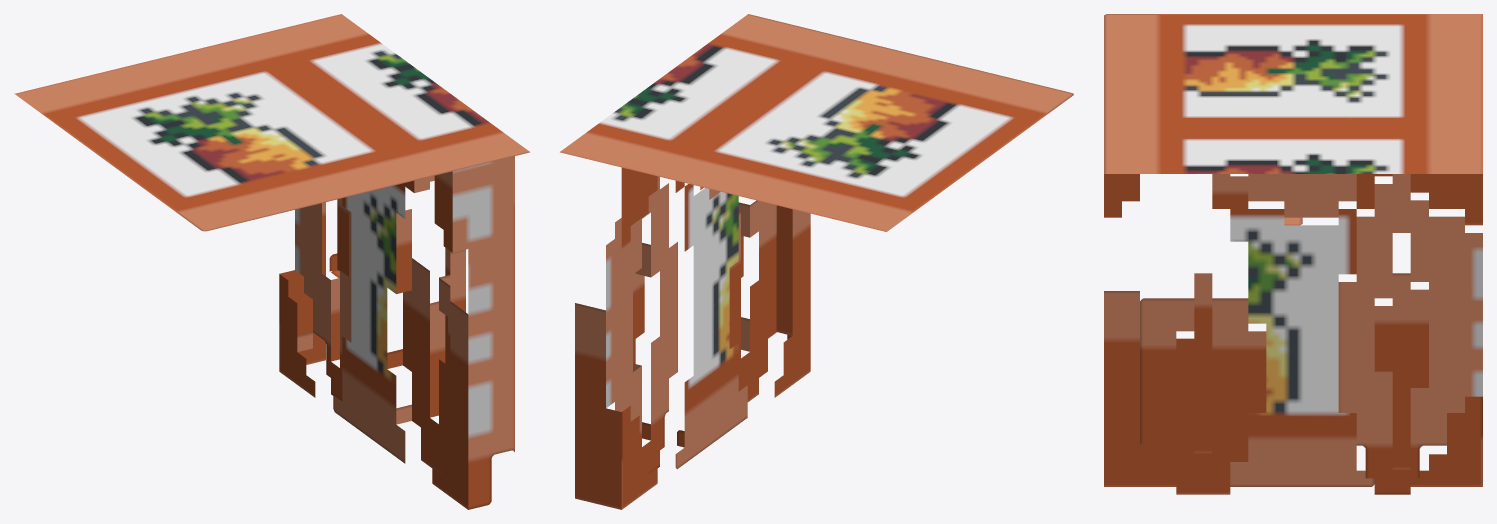
File: Underwater_straight.obj
3 views of the same model, side by side, from view 1: azimuth 30°, elevation 25°; view 2: azimuth 150°, elevation 25°; view 3: azimuth 270°, elevation 25° (orthographic).
Visible parts, largest first — view 1: Cube.427; view 2: Cube.427; view 3: Cube.427.
Boxes of the visible parts, left/top/right/bottom form: Cube.427: left=14, top=14, right=529, bottom=509; Cube.427: left=560, top=14, right=1073, bottom=509; Cube.427: left=1104, top=14, right=1482, bottom=494.
Bounding box in the file's own units: 2.1 × 2.1 × 2.1.
